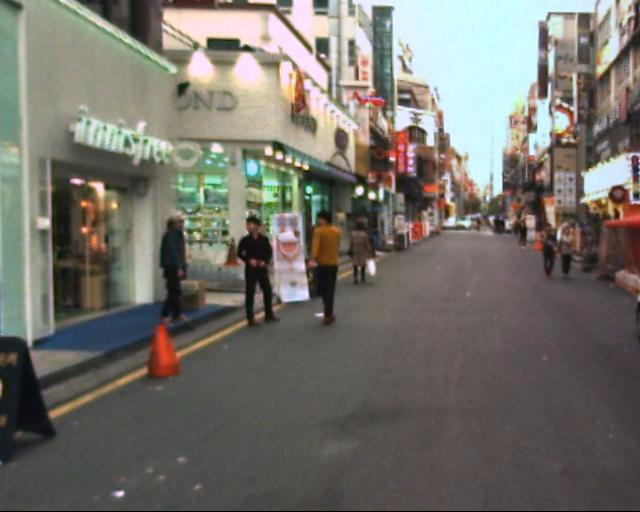person: (296, 195, 353, 327), (229, 211, 281, 336), (158, 210, 200, 324), (341, 208, 374, 293), (555, 213, 577, 290), (535, 219, 560, 286)
